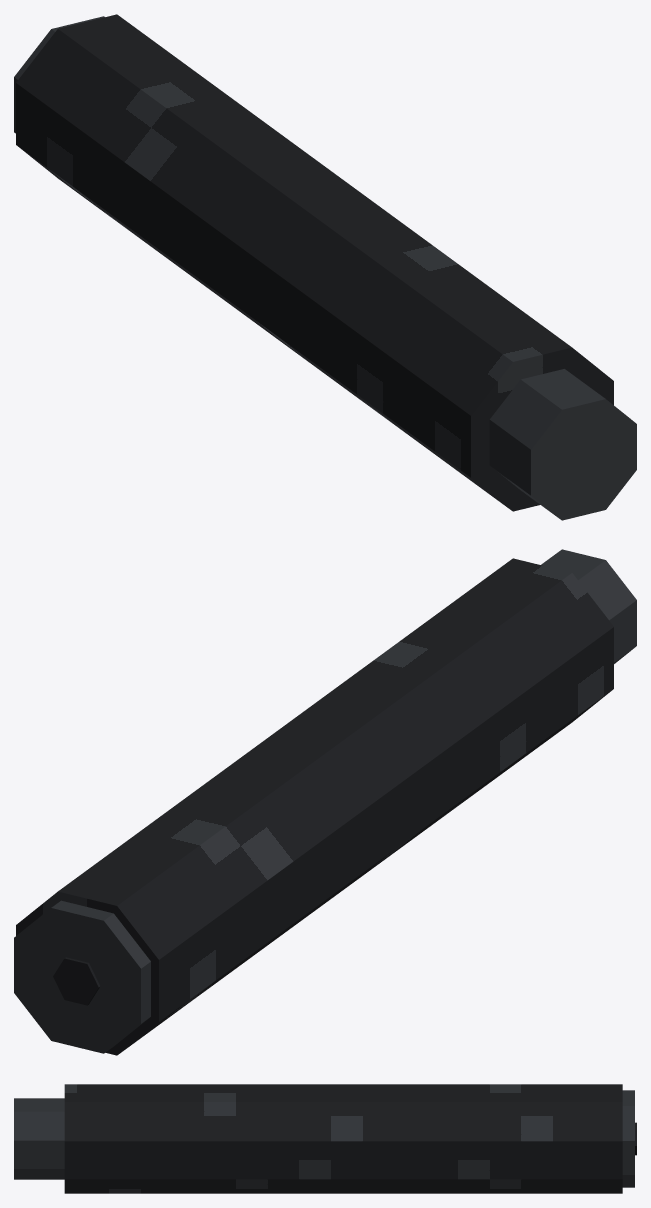
The model's file is att_suppressor_reaper.glb.
3 renders of one model, top to bottom at view 1: azimuth 30°, elevation 25°; view 2: azimuth 150°, elevation 25°; view 3: azimuth 270°, elevation 25°, orthographic. The views are drawn at different scales.
Visible parts, largest first — view 1: Body; view 2: Body; view 3: Body.
Boxes of the visible parts, x1,y1,x2,y2 form: Body: [14, 14, 636, 520]; Body: [14, 549, 636, 1055]; Body: [14, 1084, 636, 1193].
Size of the model in its own units: 0.0499 by 0.0499 by 0.307.
Materials: 2 (2 with a texture image).
